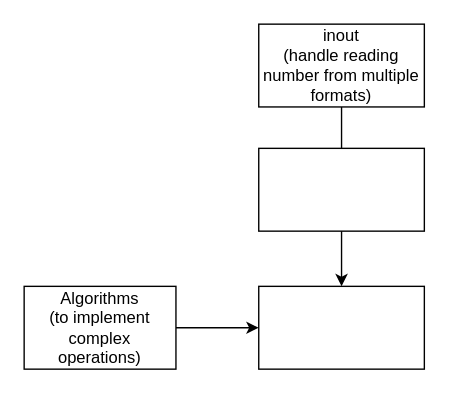
Some shapes in this 449 by 393 pixel diagram are drawn without their labels. Here are the shapes that lost their labels. From the top down, the centre of each, then its label:
At point (340, 189): "Constructors".
At point (340, 327): "Interface with core functions (transform into chunks)".
